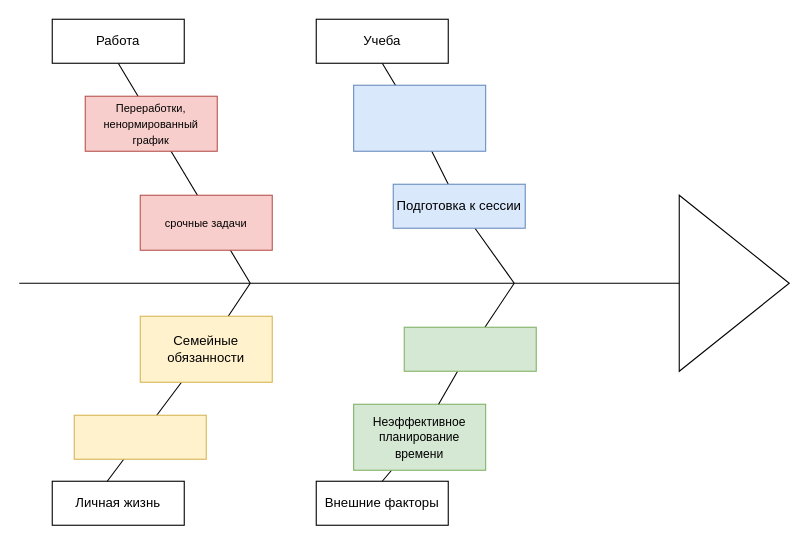
Some shapes in this 809 by 545 pixel diagram are drawn without their labels. Here are the shapes that lost their labels. From the top down, the centre of each, then its label:
At point 419,117: "Большой объём курсовых и лабораторных".
At point 733,282: "Нехватка времени на хобби".
At point 469,348: "Пробки и время на дорогу".
At point 139,436: "Мелкие ссоры".
